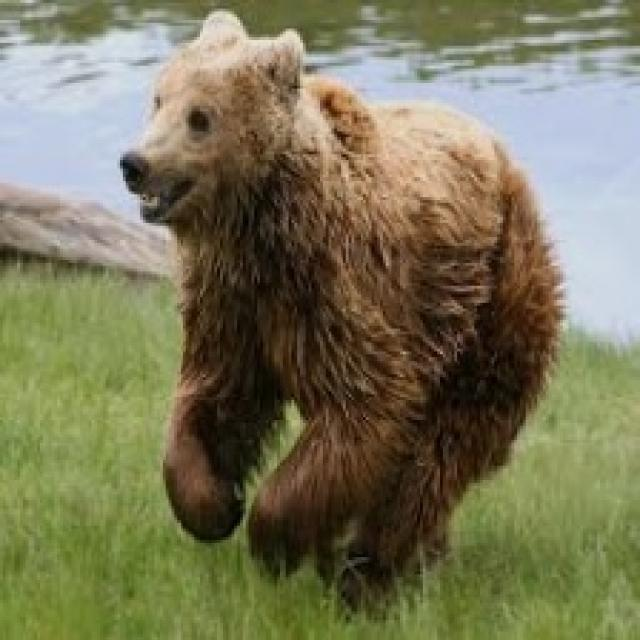bear: (105, 37, 583, 601)
